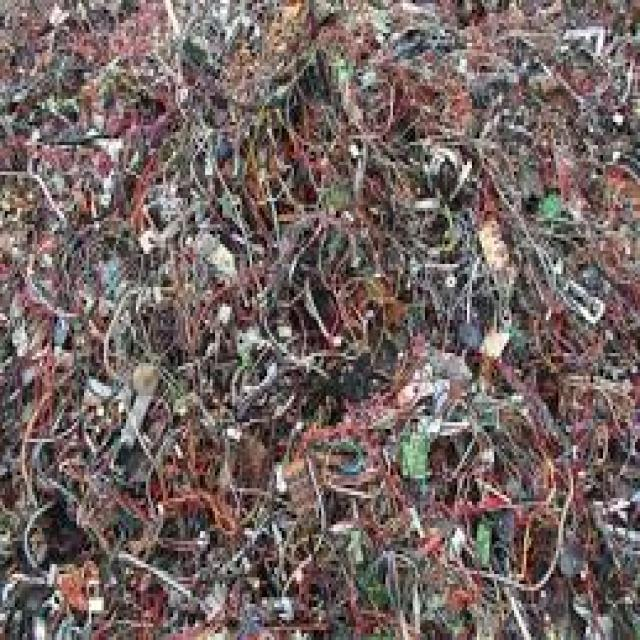Hazard: (2, 0, 640, 640)
